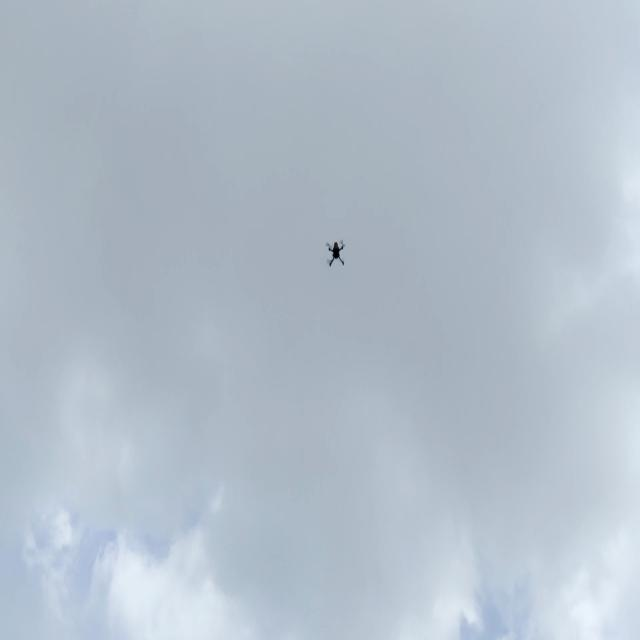drone: (322, 238, 351, 272)
